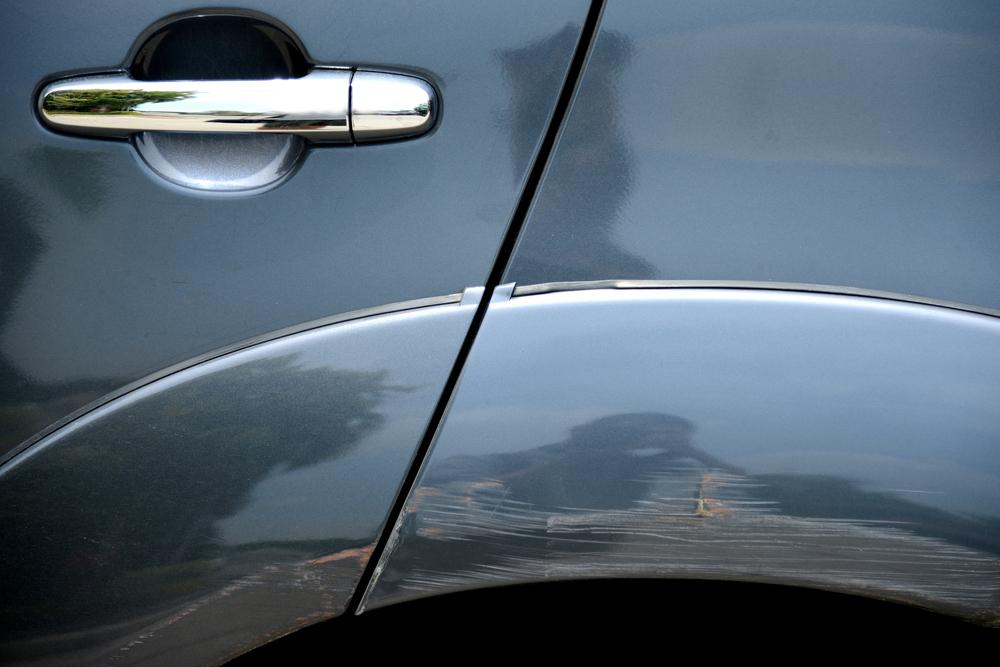scratch: (369, 454, 1000, 632), (99, 536, 375, 667)
